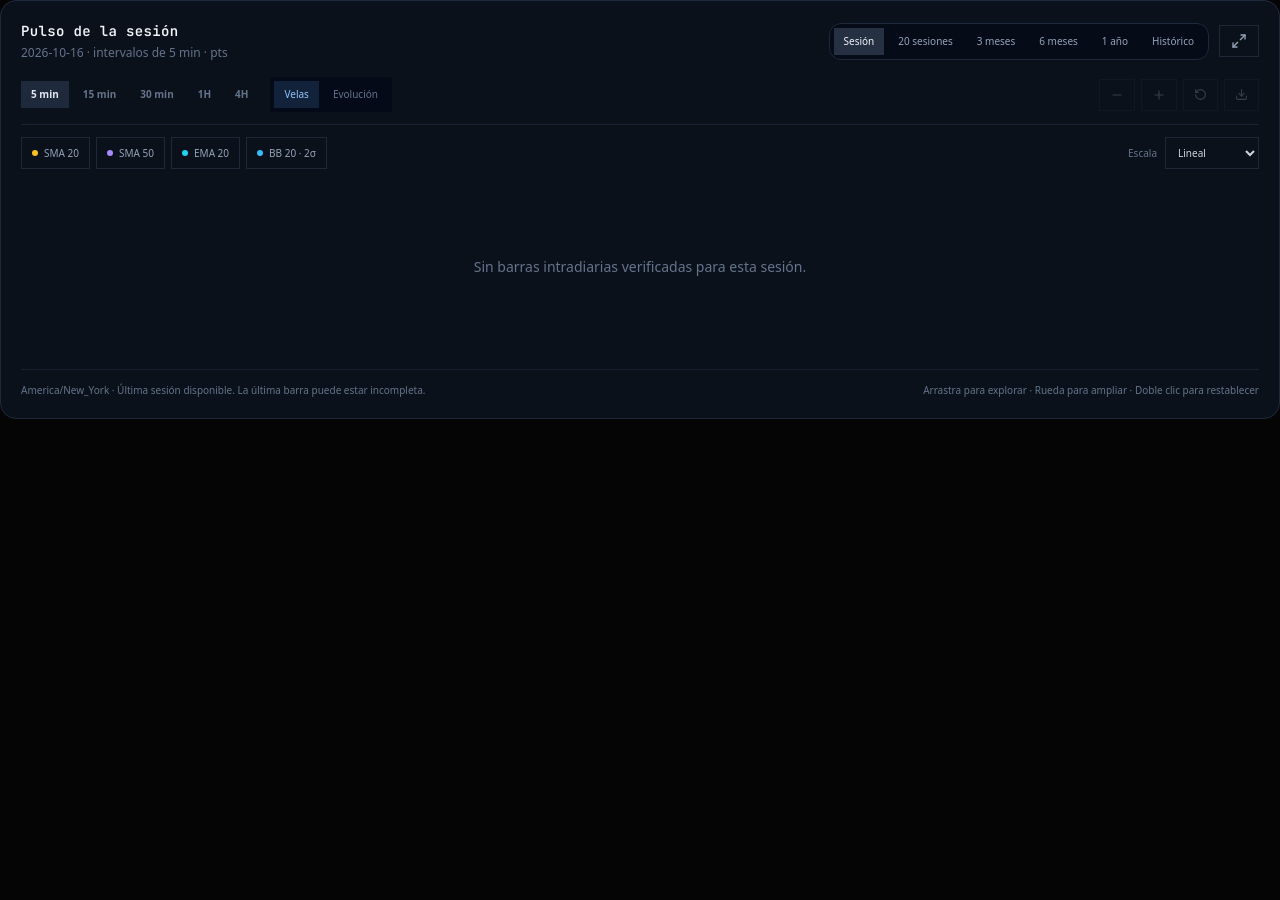
Scenario: shows an explicit empty intraday state and still permits the historical session view
Expected: the text "Sin barras intradiarias verificadas para esta sesión." is shown, [474,257,806,276]
Click the button "3 meses". click: click(996, 41)
box: [967,28,1025,54]
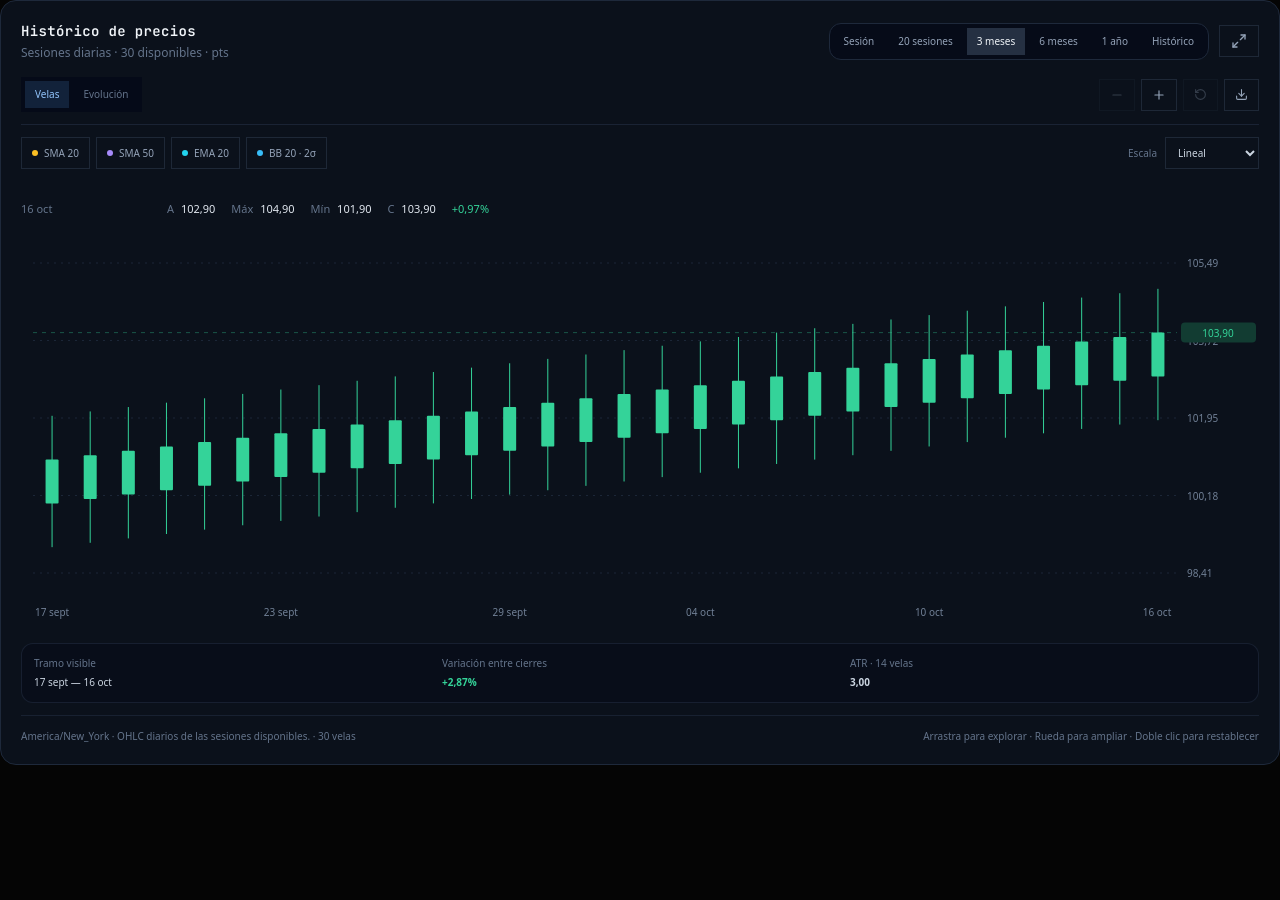
Expected: the icon named "Gráfico interactivo de ^GSPC" is shown, [21,241,1259,631]
